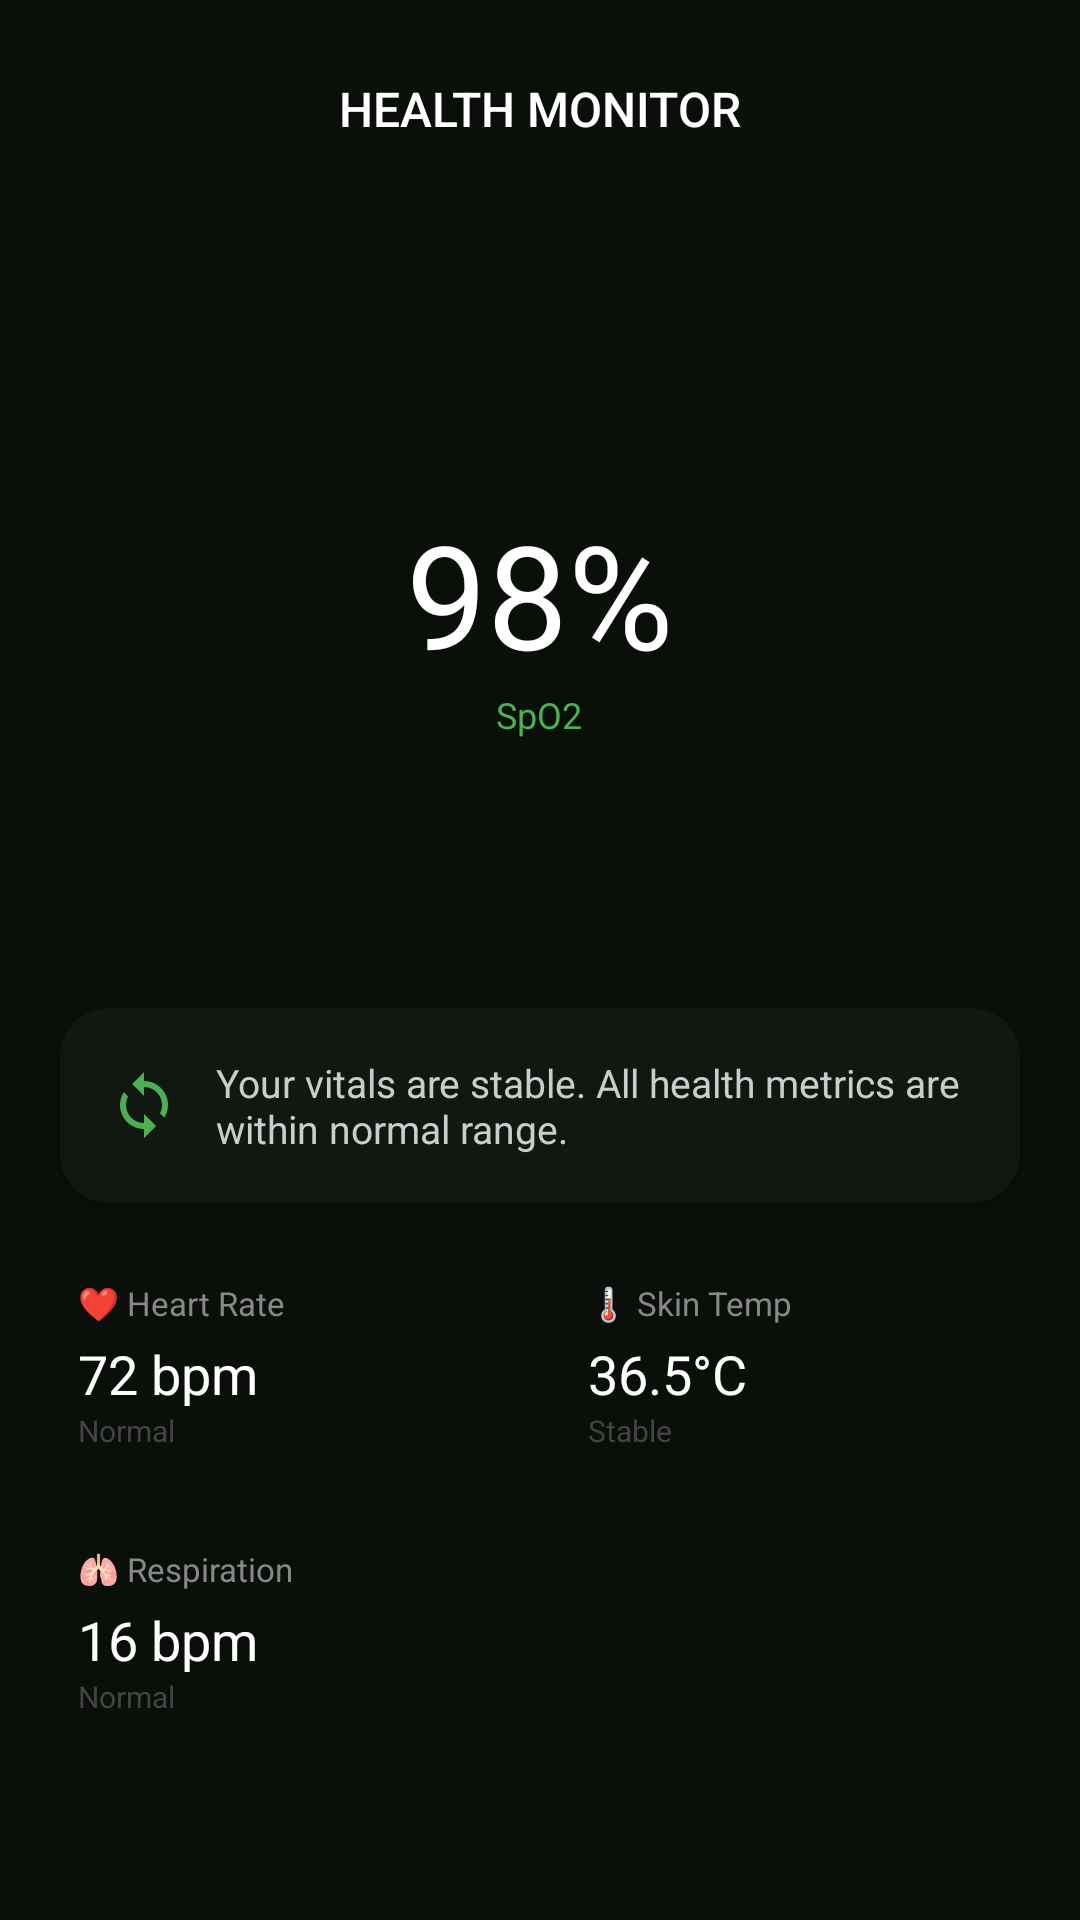

Icon bounding boxes for this 1080 × 1920 phone screenshot, format Rect(x1, y1, x2, y2):
sync: Rect(120, 1072, 168, 1138)
